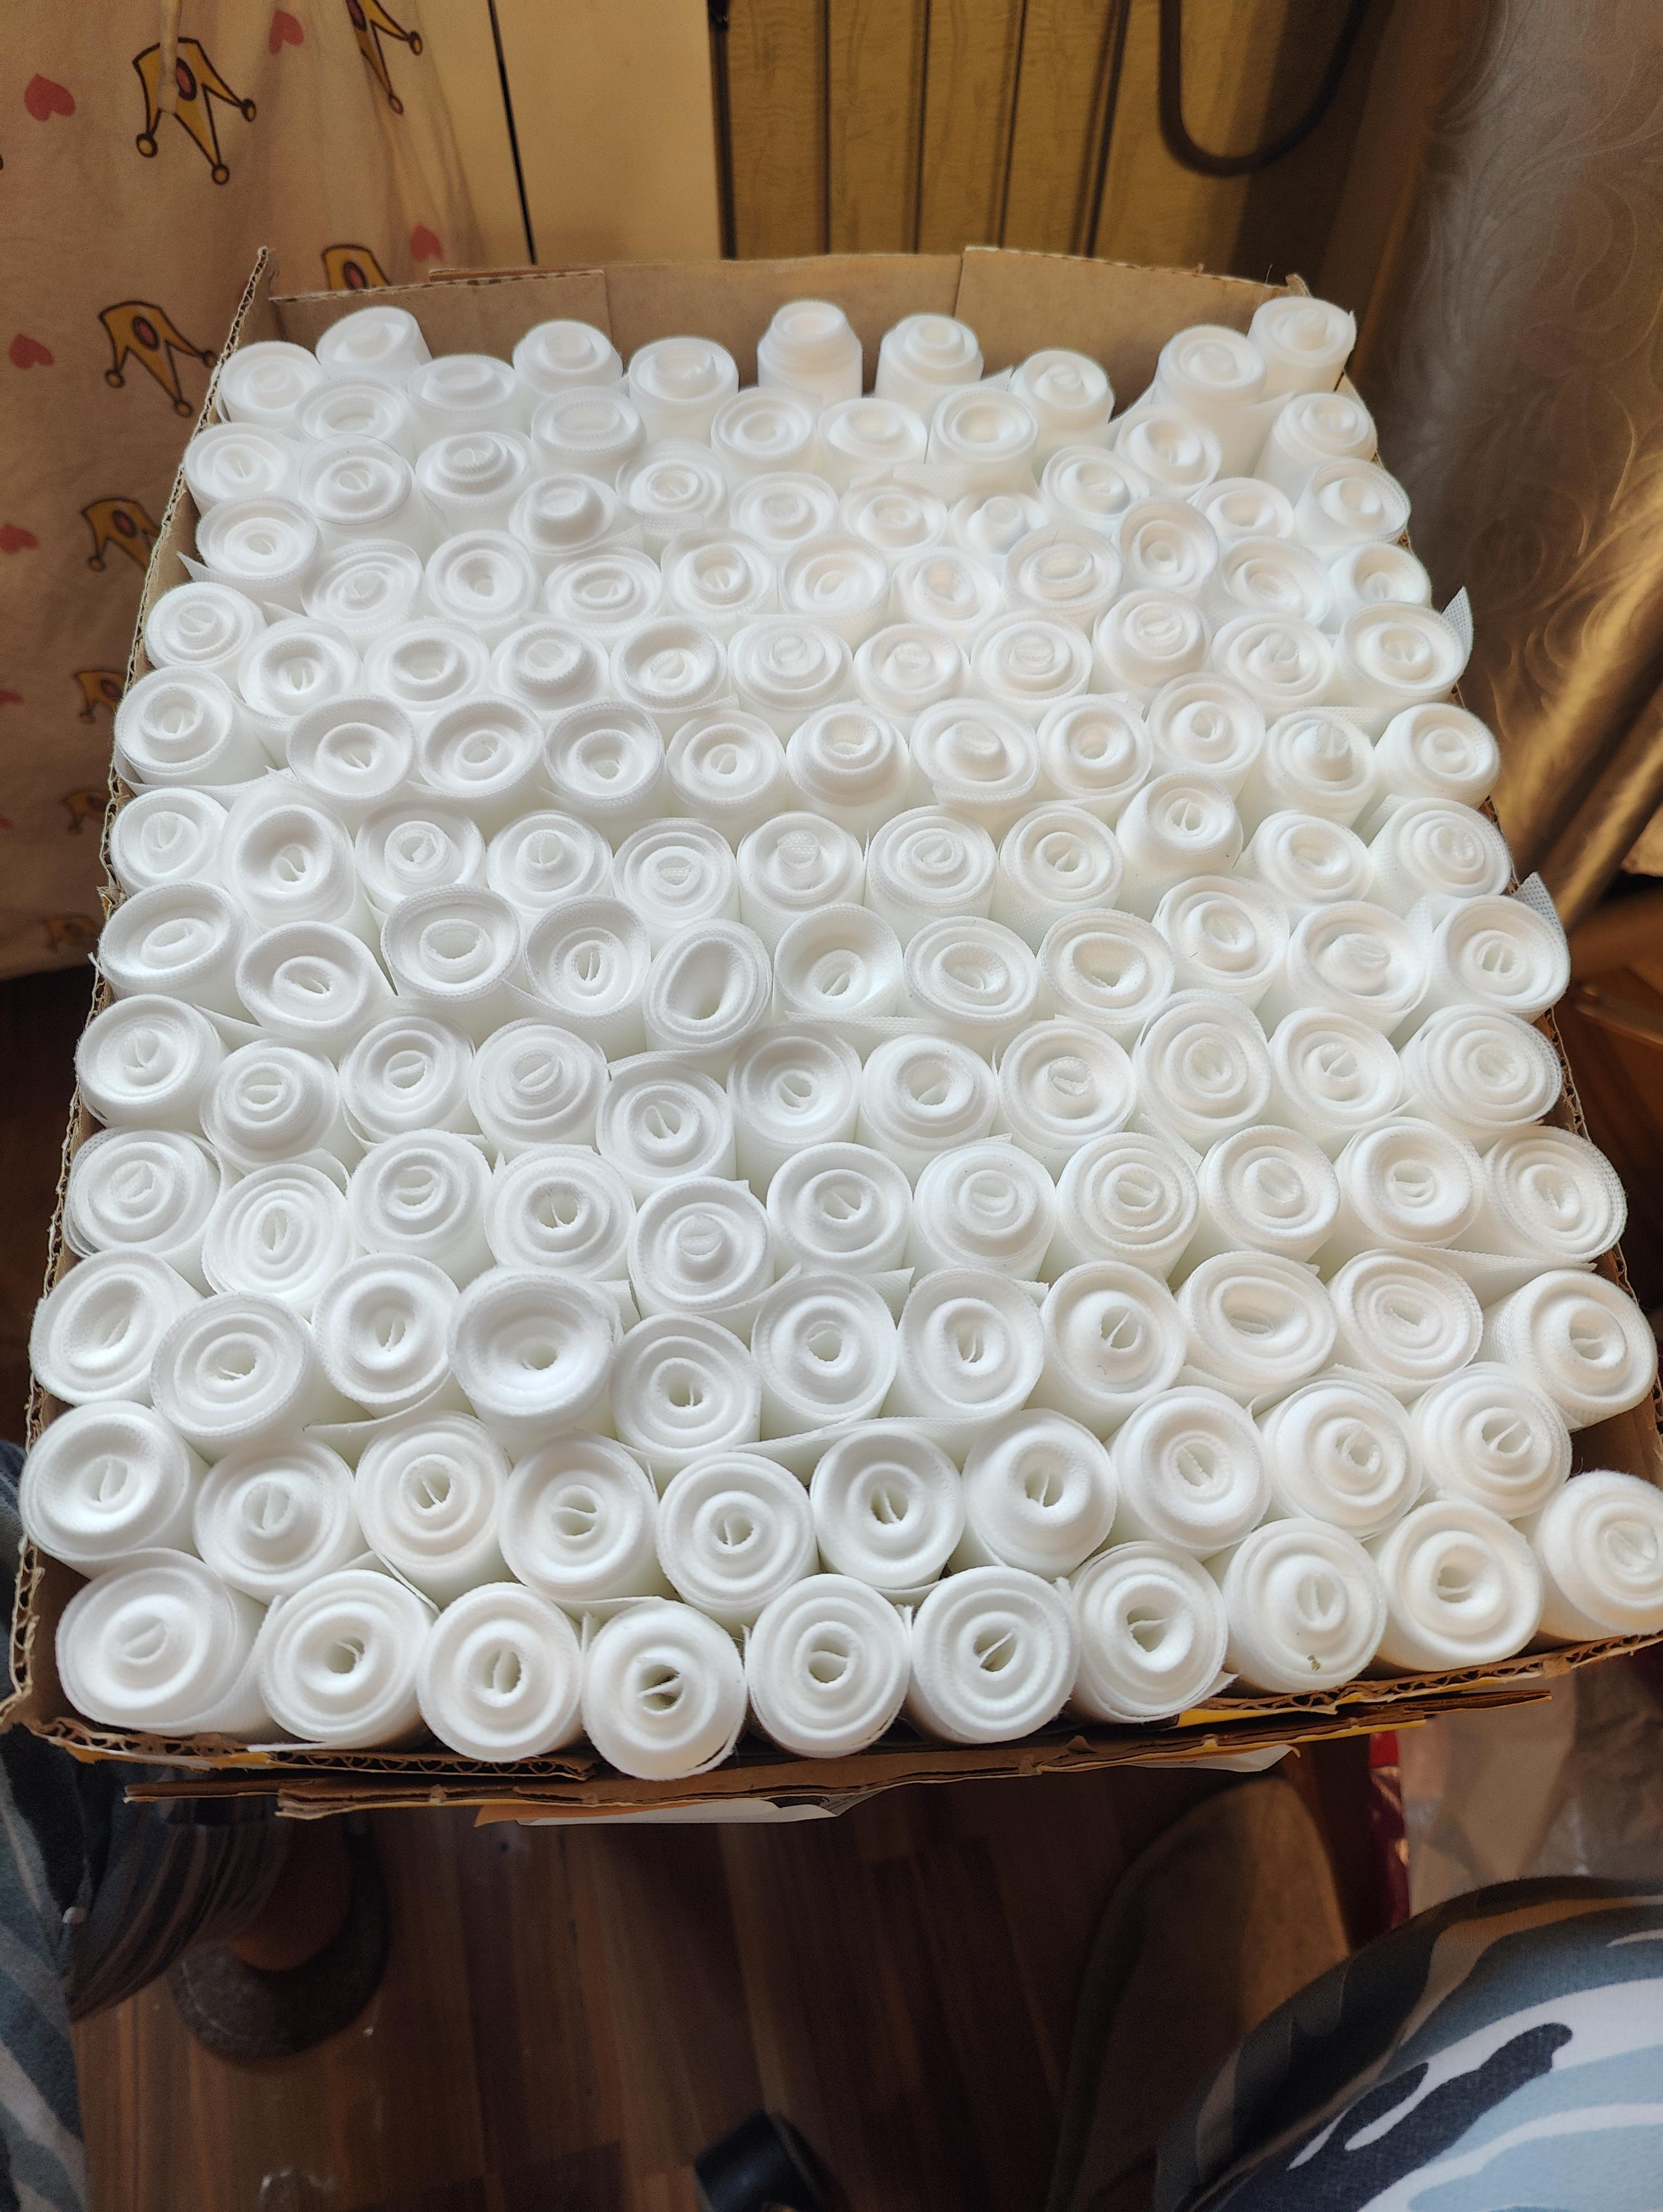roll: (514, 821, 669, 1116), (51, 1548, 260, 1740), (252, 1564, 438, 1752), (1368, 1492, 1551, 1677), (739, 1571, 915, 1763), (412, 1580, 590, 1766), (575, 1595, 751, 1784), (19, 1396, 203, 1576), (348, 1408, 519, 1600), (900, 1566, 1074, 1751), (493, 1431, 667, 1614), (445, 1267, 625, 1443), (1216, 1517, 1387, 1702), (1073, 1534, 1235, 1725), (652, 1447, 823, 1625), (185, 1434, 362, 1606), (148, 1293, 325, 1459), (802, 1422, 968, 1597), (1485, 1265, 1663, 1427), (1408, 1361, 1581, 1527), (28, 1246, 204, 1407), (1259, 1375, 1427, 1543), (957, 1407, 1116, 1581), (603, 1310, 770, 1475), (1108, 1384, 1266, 1557), (744, 1267, 901, 1436), (307, 1248, 468, 1412), (889, 1265, 1045, 1433), (1527, 1462, 1663, 1649), (1324, 1242, 1492, 1393), (1029, 1256, 1179, 1422), (196, 1160, 355, 1316), (1397, 994, 1567, 1139), (1174, 1244, 1335, 1396), (70, 987, 231, 1134), (1279, 896, 1434, 1047), (1418, 889, 1576, 1038), (1476, 1125, 1637, 1268), (217, 772, 367, 924), (1127, 994, 1275, 1148), (93, 877, 252, 1019), (1331, 1115, 1492, 1255), (59, 1125, 220, 1265), (907, 1134, 1057, 1282), (1263, 1003, 1417, 1146), (482, 1143, 639, 1282), (229, 917, 388, 1055), (1048, 1125, 1193, 1275), (377, 882, 529, 1026), (590, 1054, 746, 1193), (990, 1015, 1139, 1160), (622, 1174, 772, 1317), (854, 1024, 1003, 1167), (760, 1139, 910, 1281), (342, 1129, 494, 1268), (1193, 1118, 1342, 1258), (335, 1012, 484, 1150), (196, 1043, 346, 1179), (1364, 793, 1518, 926), (108, 664, 257, 800), (1148, 870, 1289, 1012), (1029, 902, 1172, 1041), (898, 910, 1043, 1048), (465, 1017, 613, 1151), (732, 807, 872, 947), (765, 900, 907, 1036), (636, 917, 770, 1061), (863, 804, 1003, 940), (1111, 769, 1247, 909), (903, 694, 1041, 828), (994, 798, 1132, 933), (606, 814, 742, 949), (349, 790, 493, 917), (536, 695, 673, 828), (229, 617, 365, 750), (1370, 697, 1511, 825), (281, 690, 419, 819), (1335, 596, 1473, 725), (659, 706, 791, 839), (103, 779, 241, 907), (1251, 706, 1384, 837), (1204, 606, 1342, 732), (781, 695, 912, 826), (1139, 669, 1270, 798), (1027, 690, 1156, 818), (414, 688, 549, 811), (1242, 804, 1378, 924), (189, 493, 325, 613), (482, 805, 620, 924), (721, 610, 852, 732), (411, 432, 540, 554), (356, 615, 489, 734), (1087, 584, 1212, 706), (1251, 391, 1380, 510), (966, 605, 1094, 723), (847, 619, 975, 737), (136, 577, 267, 692), (293, 437, 421, 554), (604, 613, 730, 730), (299, 542, 428, 653), (536, 545, 666, 653), (655, 529, 779, 641), (484, 617, 608, 729), (416, 528, 542, 638), (1006, 348, 1114, 474), (776, 536, 898, 646), (1204, 529, 1331, 634), (872, 309, 983, 428), (405, 355, 528, 461), (503, 468, 627, 573), (997, 522, 1121, 627), (928, 390, 1043, 501), (753, 297, 863, 414), (886, 542, 1004, 650), (739, 1036, 858, 1144), (528, 386, 650, 491), (1291, 456, 1415, 559), (1109, 494, 1226, 601), (622, 334, 739, 440), (706, 386, 825, 491), (613, 444, 734, 547), (1246, 292, 1356, 404), (811, 393, 928, 498), (182, 421, 304, 521), (1322, 540, 1443, 638), (721, 467, 838, 566), (510, 316, 631, 412), (1151, 321, 1268, 419), (293, 374, 416, 467), (1111, 407, 1225, 507), (1034, 439, 1149, 536), (1184, 475, 1303, 570), (211, 339, 327, 433), (837, 477, 952, 570), (313, 302, 433, 390), (945, 487, 1050, 571)
